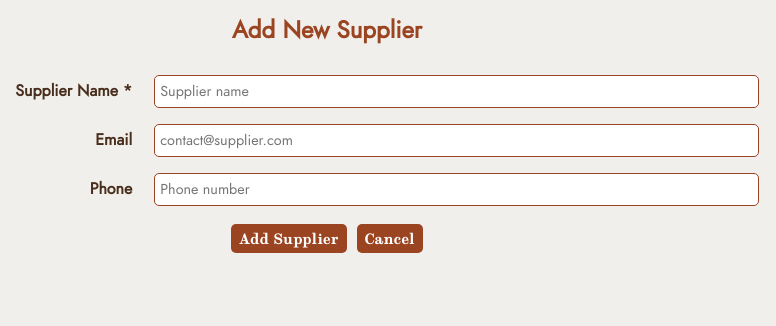
Test case: AdminSupplierFormPage › shows generic error for non-401/403 failure
The image size is (776, 326).
Type "Acme Supply" into the field with placeholder "Supplier name" at (457, 91), box [154,75,759,108]
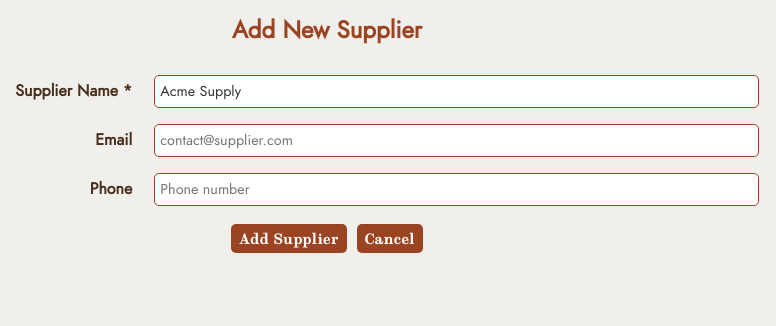
Click the button "Add Supplier" at (289, 238), box [231,224,347,253]
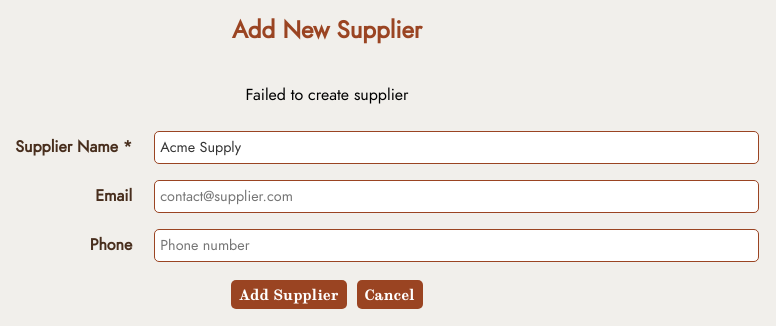
expect the text "Failed to create supplier" is shown: met, box [246,84,409,106]
